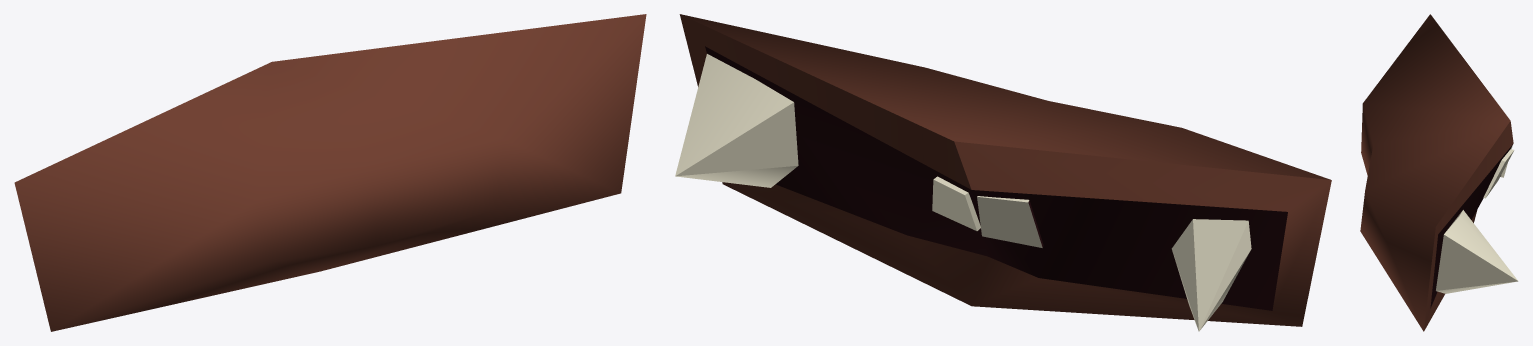
The model's file is GobMouth2.fbx.
3 views of the same model, side by side, from view 1: azimuth 30°, elevation 25°; view 2: azimuth 150°, elevation 25°; view 3: azimuth 270°, elevation 25° (orthographic). The views are drawn at different scales.
Parts seen in each view (by area): view 1: Cone.001; view 2: Cone.001; view 3: Cone.001.
Boxes of the visible parts, x1,y1,x2,y2 form: Cone.001: (14,14,646,331); Cone.001: (675,14,1331,331); Cone.001: (1360,14,1518,331).
Size of the model in its own units: 0.1319 by 0.0391 by 0.0401.
